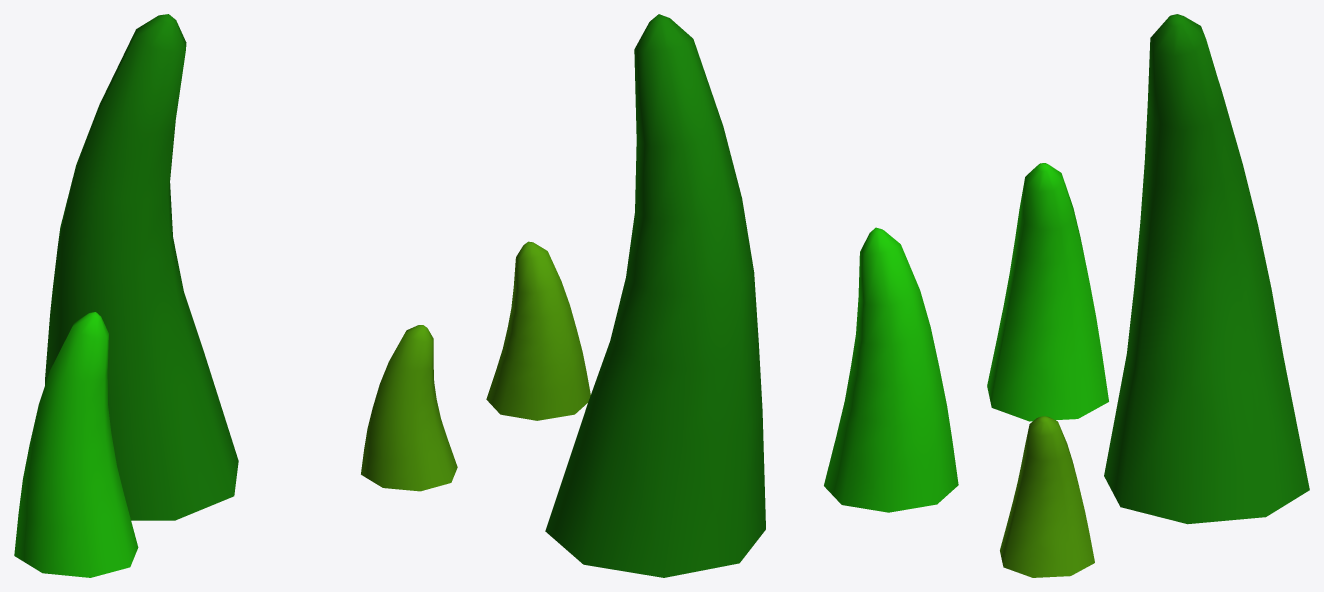
Rendered from NeutralHerb1.fbx.
The picture shows the model from 3 angles, left to right: view 1: azimuth 30°, elevation 25°; view 2: azimuth 150°, elevation 25°; view 3: azimuth 270°, elevation 25°; orthographic projection. The views are drawn at different scales.
Visible parts, largest first — view 1: NeutralHerb1_LOD0; view 2: NeutralHerb1_LOD0; view 3: NeutralHerb1_LOD0.
Boxes of the visible parts, box(x1,y1,x2,y2) form: NeutralHerb1_LOD0: box(14, 14, 457, 577); NeutralHerb1_LOD0: box(486, 14, 958, 577); NeutralHerb1_LOD0: box(987, 14, 1309, 577).
Size of what is drawn, in the model's own units: 44.47 by 47.32 by 29.08.
